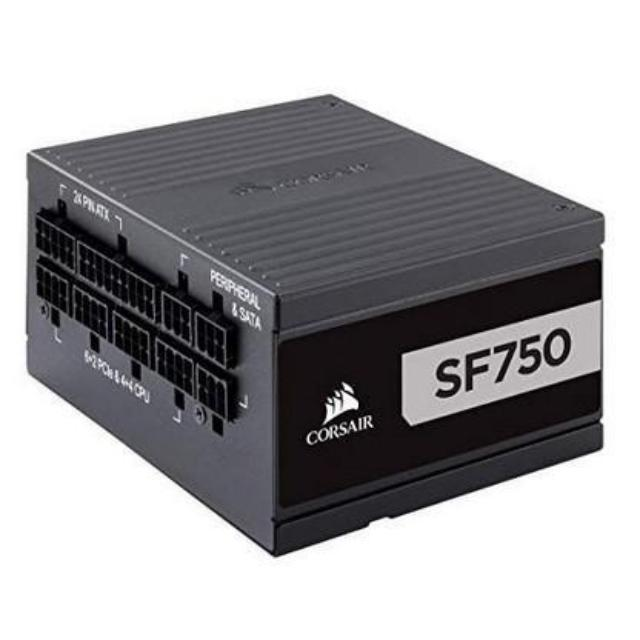PSU: (8, 93, 608, 575)
